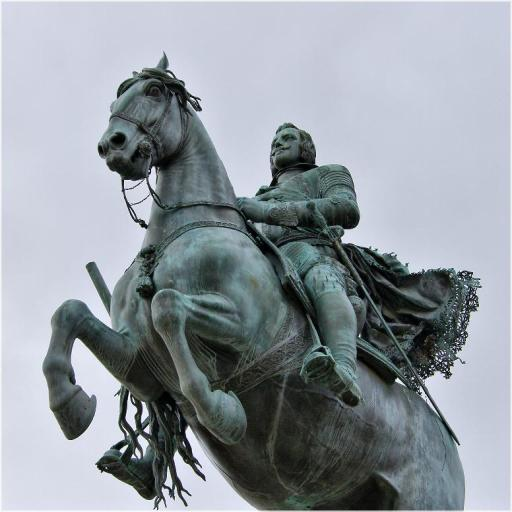horse: (42, 48, 468, 512)
